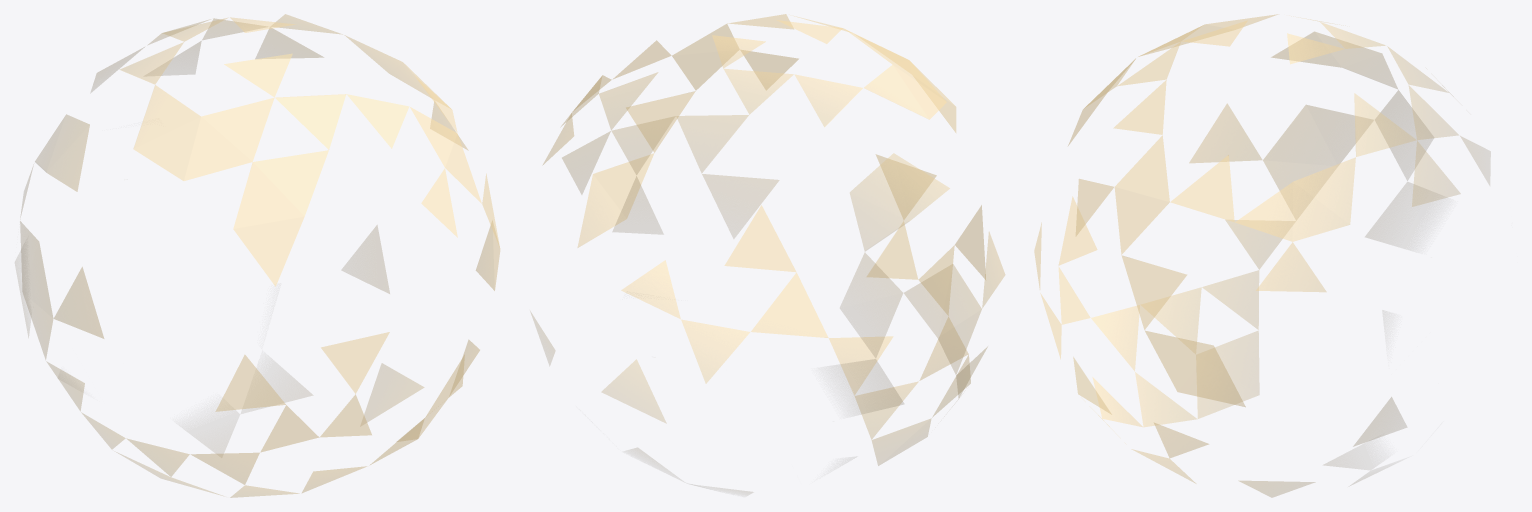
3 views of the same model, side by side, from view 1: azimuth 30°, elevation 25°; view 2: azimuth 150°, elevation 25°; view 3: azimuth 270°, elevation 25° (orthographic).
Visible parts, largest first — view 1: Icosphere_3 (triangles); view 2: Icosphere_3 (triangles); view 3: Icosphere_3 (triangles).
Part boxes in pixels (left/top/right/bottom): Icosphere_3 (triangles): left=15, top=14, right=500, bottom=497; Icosphere_3 (triangles): left=530, top=14, right=1005, bottom=493; Icosphere_3 (triangles): left=1034, top=14, right=1490, bottom=497.
Bounding box in the file's own units: 1.65 × 1.66 × 1.67.
1 material, 1 textured.
